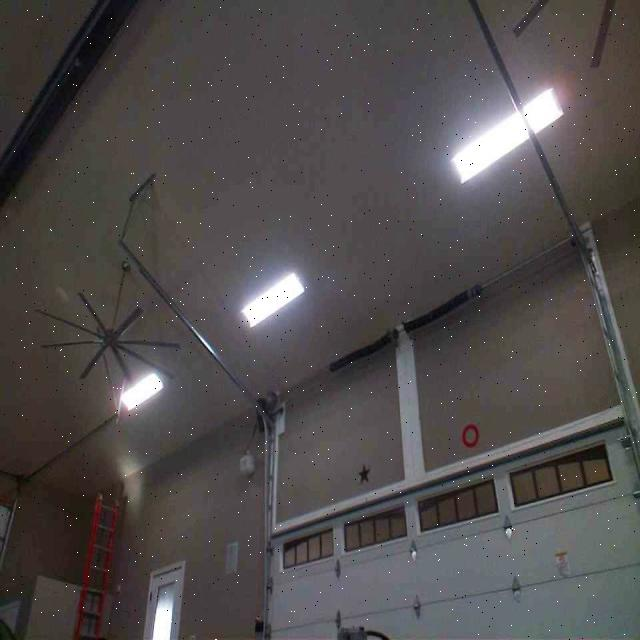ring_red: (461, 421, 479, 447)
star_black: (357, 462, 370, 483)
